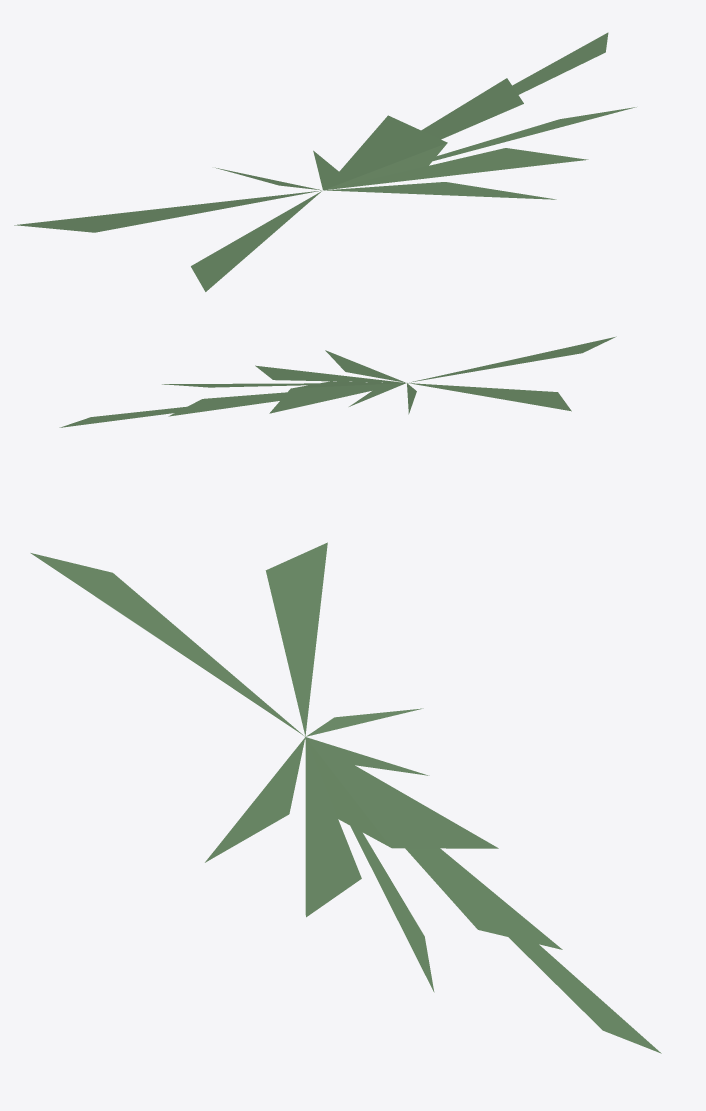
File: c_1670_17831_forest.glb
3 renders of one model, top to bottom at view 1: azimuth 30°, elevation 25°; view 2: azimuth 150°, elevation 25°; view 3: azimuth 270°, elevation 25°, orthographic. The views are drawn at different scales.
Parts seen in each view (by area): view 1: geometry_0; view 2: geometry_0; view 3: geometry_0.
Boxes of the visible parts, x1,y1,x2,y2 form: geometry_0: [14, 32, 636, 291]; geometry_0: [59, 336, 616, 427]; geometry_0: [30, 542, 661, 1053].
Bounding box in the file's own units: 212 × 33.49 × 128.
